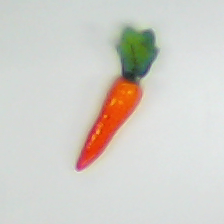carrot: (57, 20, 187, 169)
